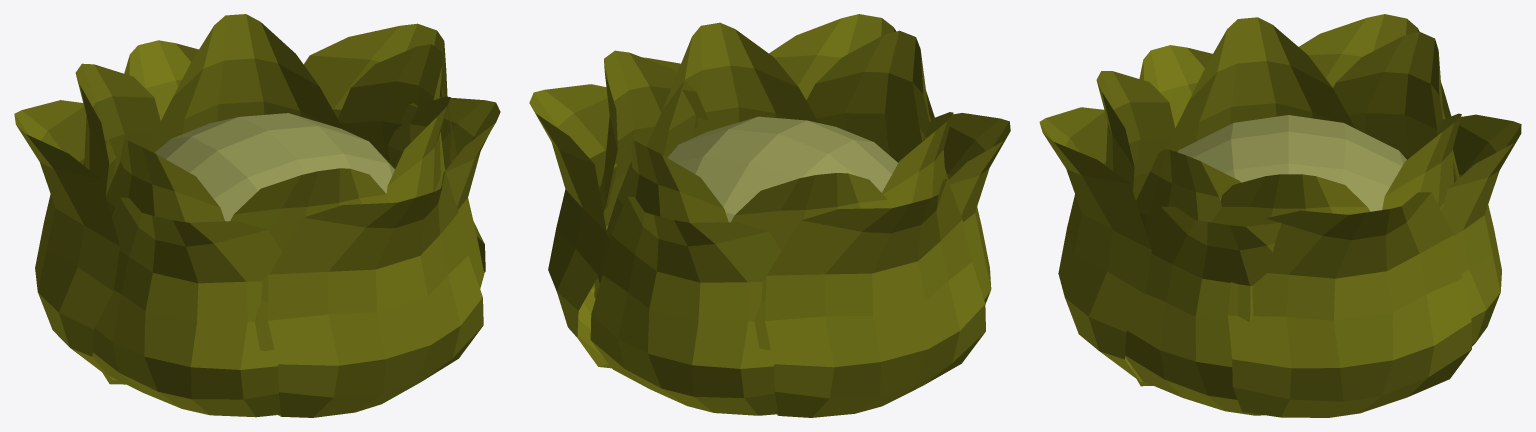
Rendered from lettuce.glb.
The picture shows the model from 3 angles, left to right: view 1: azimuth 30°, elevation 25°; view 2: azimuth 150°, elevation 25°; view 3: azimuth 270°, elevation 25°; orthographic projection.
Visible parts, largest first — view 1: lettuce; view 2: lettuce; view 3: lettuce.
Part boxes in pixels (<box>): lettuce: <box>14,14,500,417</box>; lettuce: <box>529,14,1010,417</box>; lettuce: <box>1039,14,1521,417</box>.
Bounding box in the file's own units: 2.08 × 1.37 × 2.13.
Materials: 1 (1 with a texture image).
